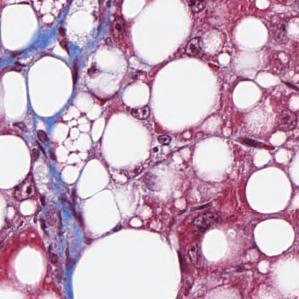ballooning: (84, 43, 129, 101)
